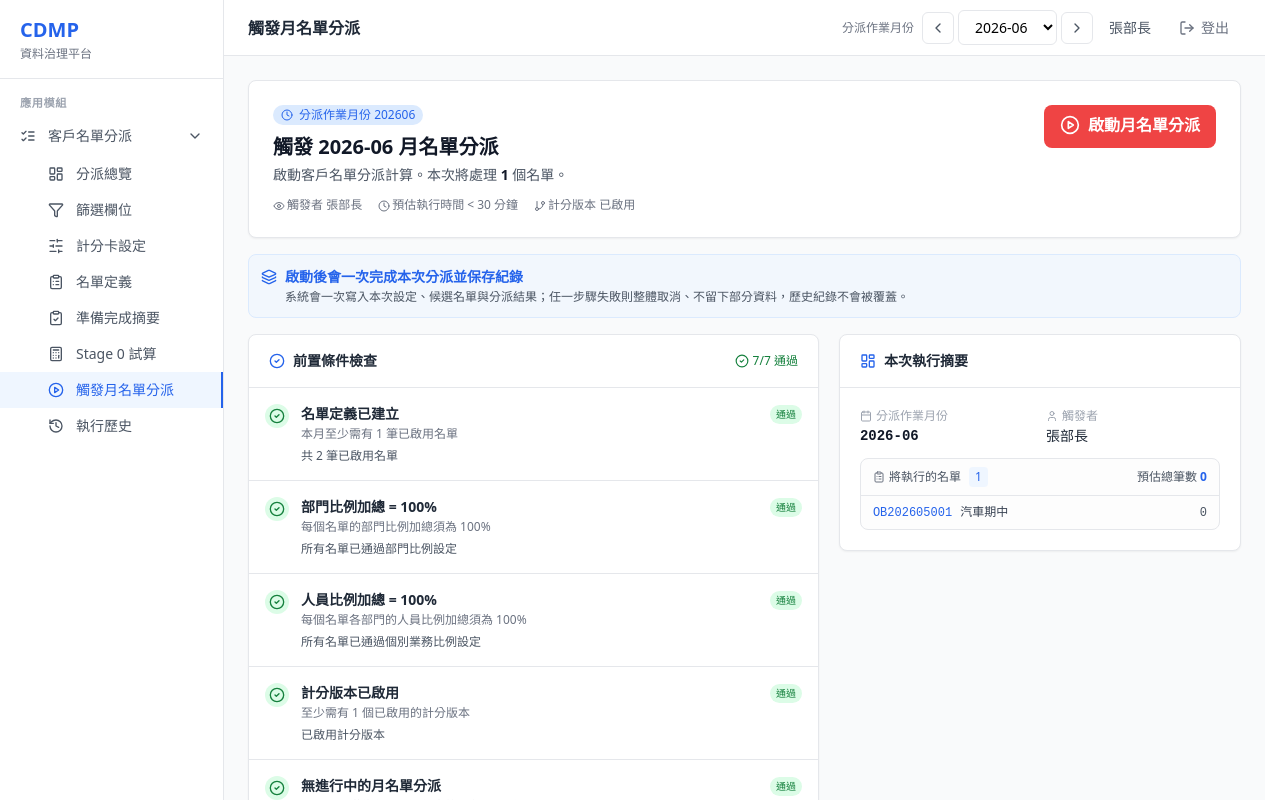
Test: TriggerRunPage (Phase 2 改造) › 點「啟動月名單分派」開啟 confirm modal
Click the button with test id "btn-start-run" at (1130, 126), box 1044,105 -> 1216,148
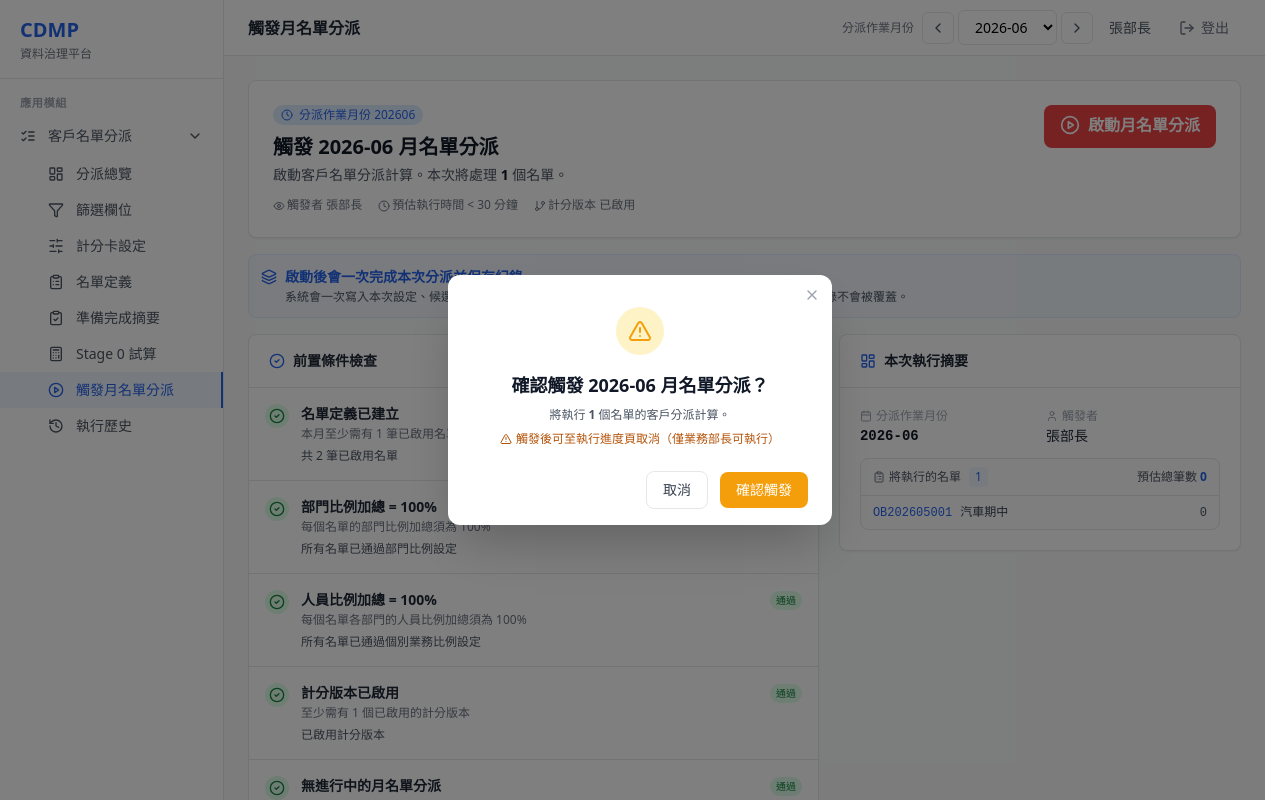
Expected: the element with test id "confirm-trigger-modal" is shown
